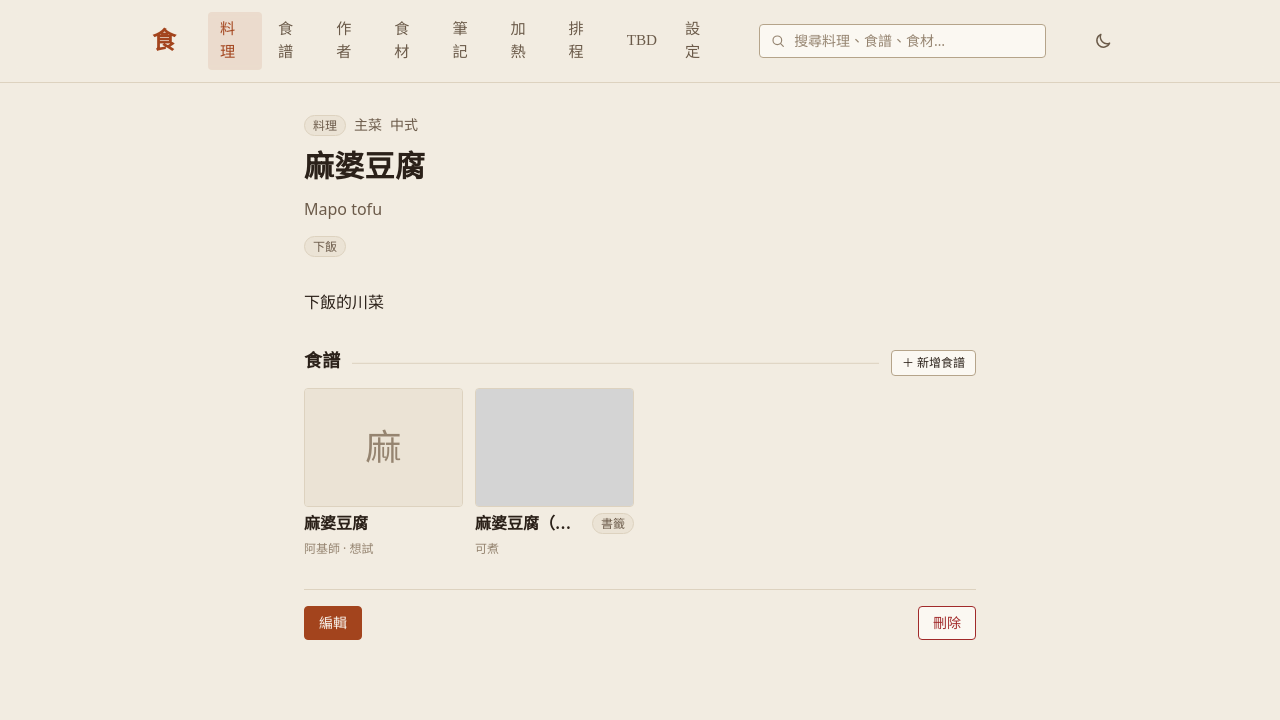
Scenario: the dish page › lists the recipes, the recipes using it and its meals when a delete is refused
The image size is (1280, 720).
What coordinates should you click on to do the following:
click the button "刪除"
I would click on:
 (947, 623)
Its box is [918,606,976,640].
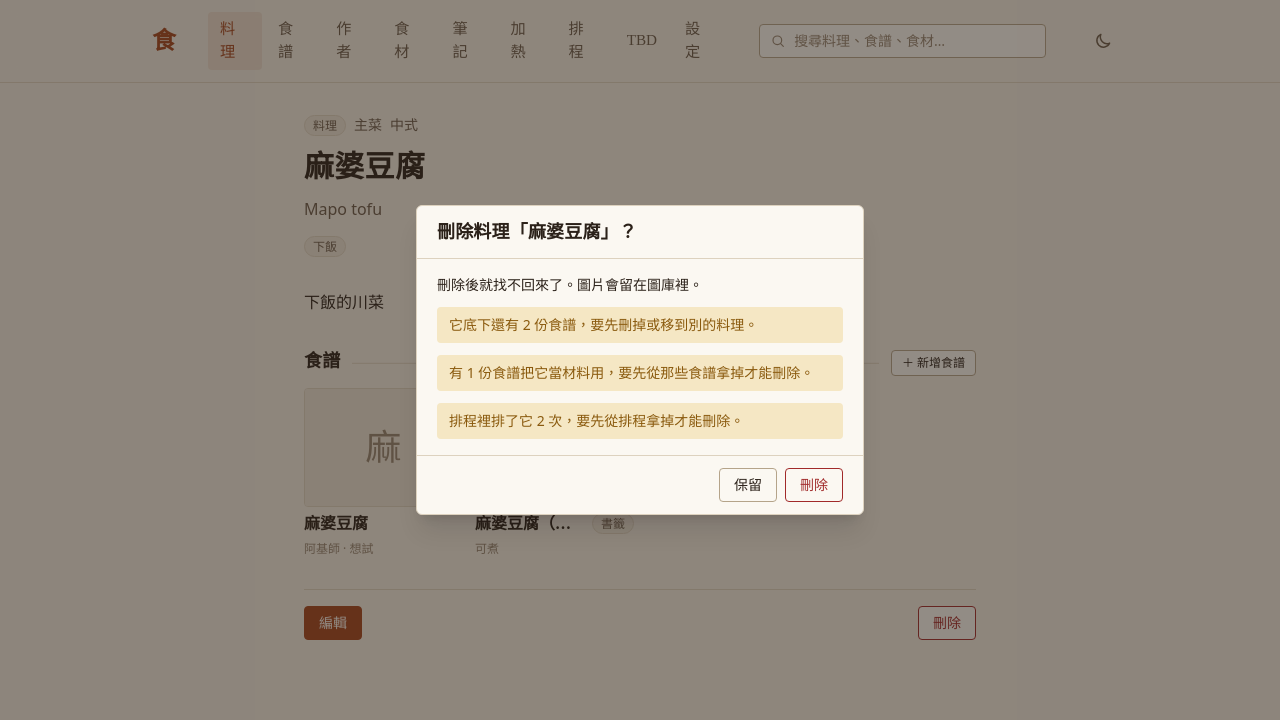
Check: the text "它底下還有 2 份食譜，要先刪掉或移到別的料理。" is shown, box [437,307,843,343]
Check: the text "有 1 份食譜把它當材料用，要先從那些食譜拿掉才能刪除。" is shown, box [437,355,843,391]
Check: the text "排程裡排了它 2 次，要先從排程拿掉才能刪除。" is shown, box [437,403,843,439]
What coordinates should you click on to do the following:
click the button "刪除"
I would click on:
 (814, 485)
Its box is [785,468,843,502].
(page scrolled)
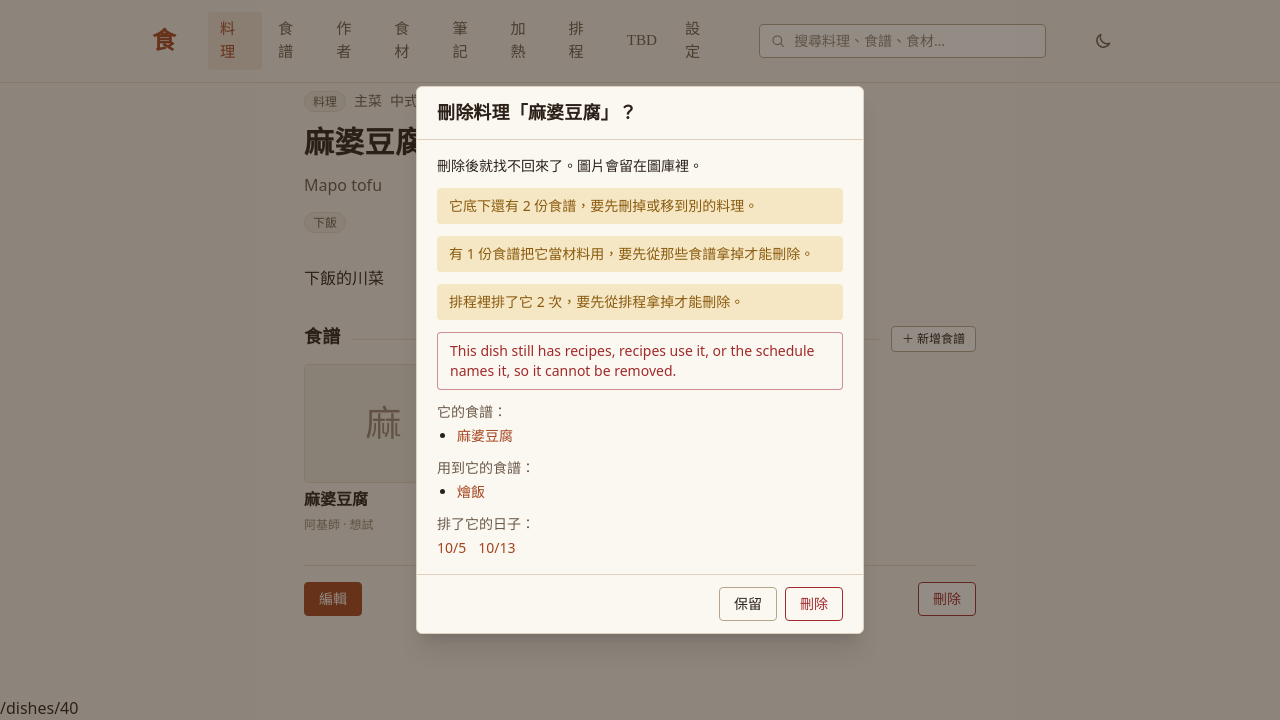
Check: the text with test id "location" reads "/dishes/40", box [0,697,78,719]
Check: the text "它的食譜：" is shown, box [437,402,507,421]
